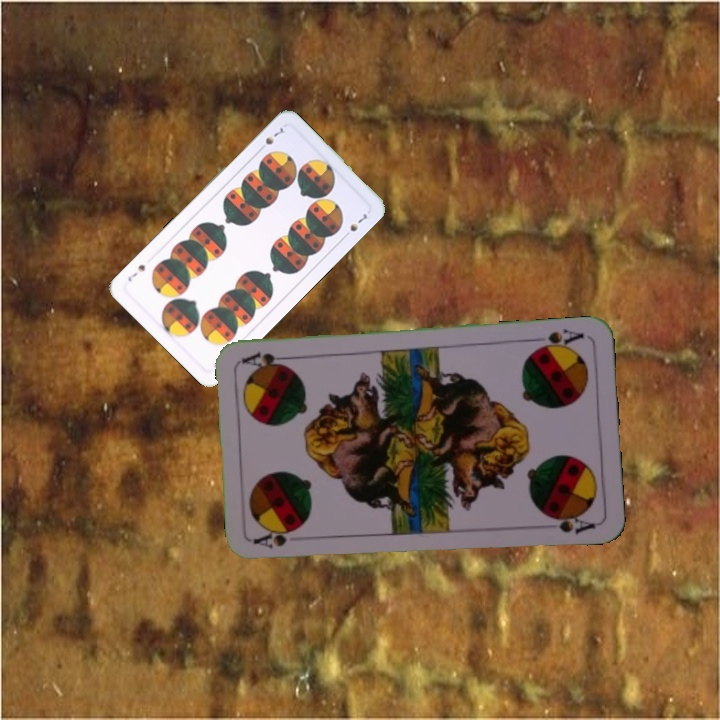S7: (255, 123, 288, 154)
SA: (528, 324, 587, 353), (250, 527, 299, 552)
